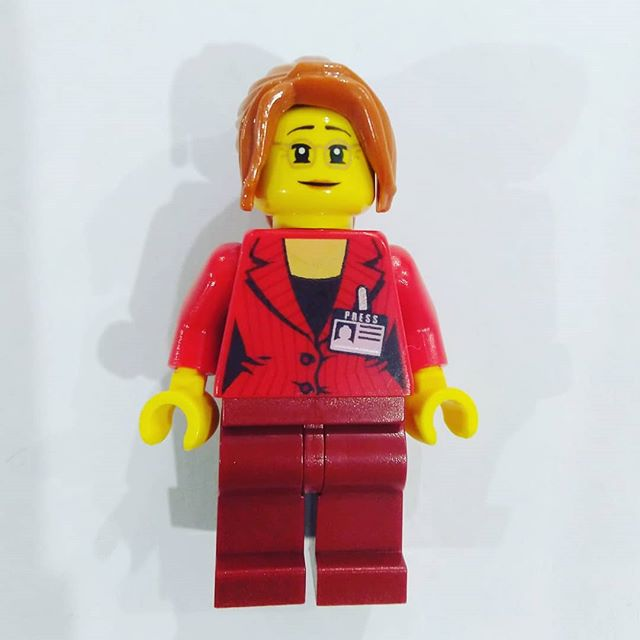lego: (138, 44, 489, 618)
